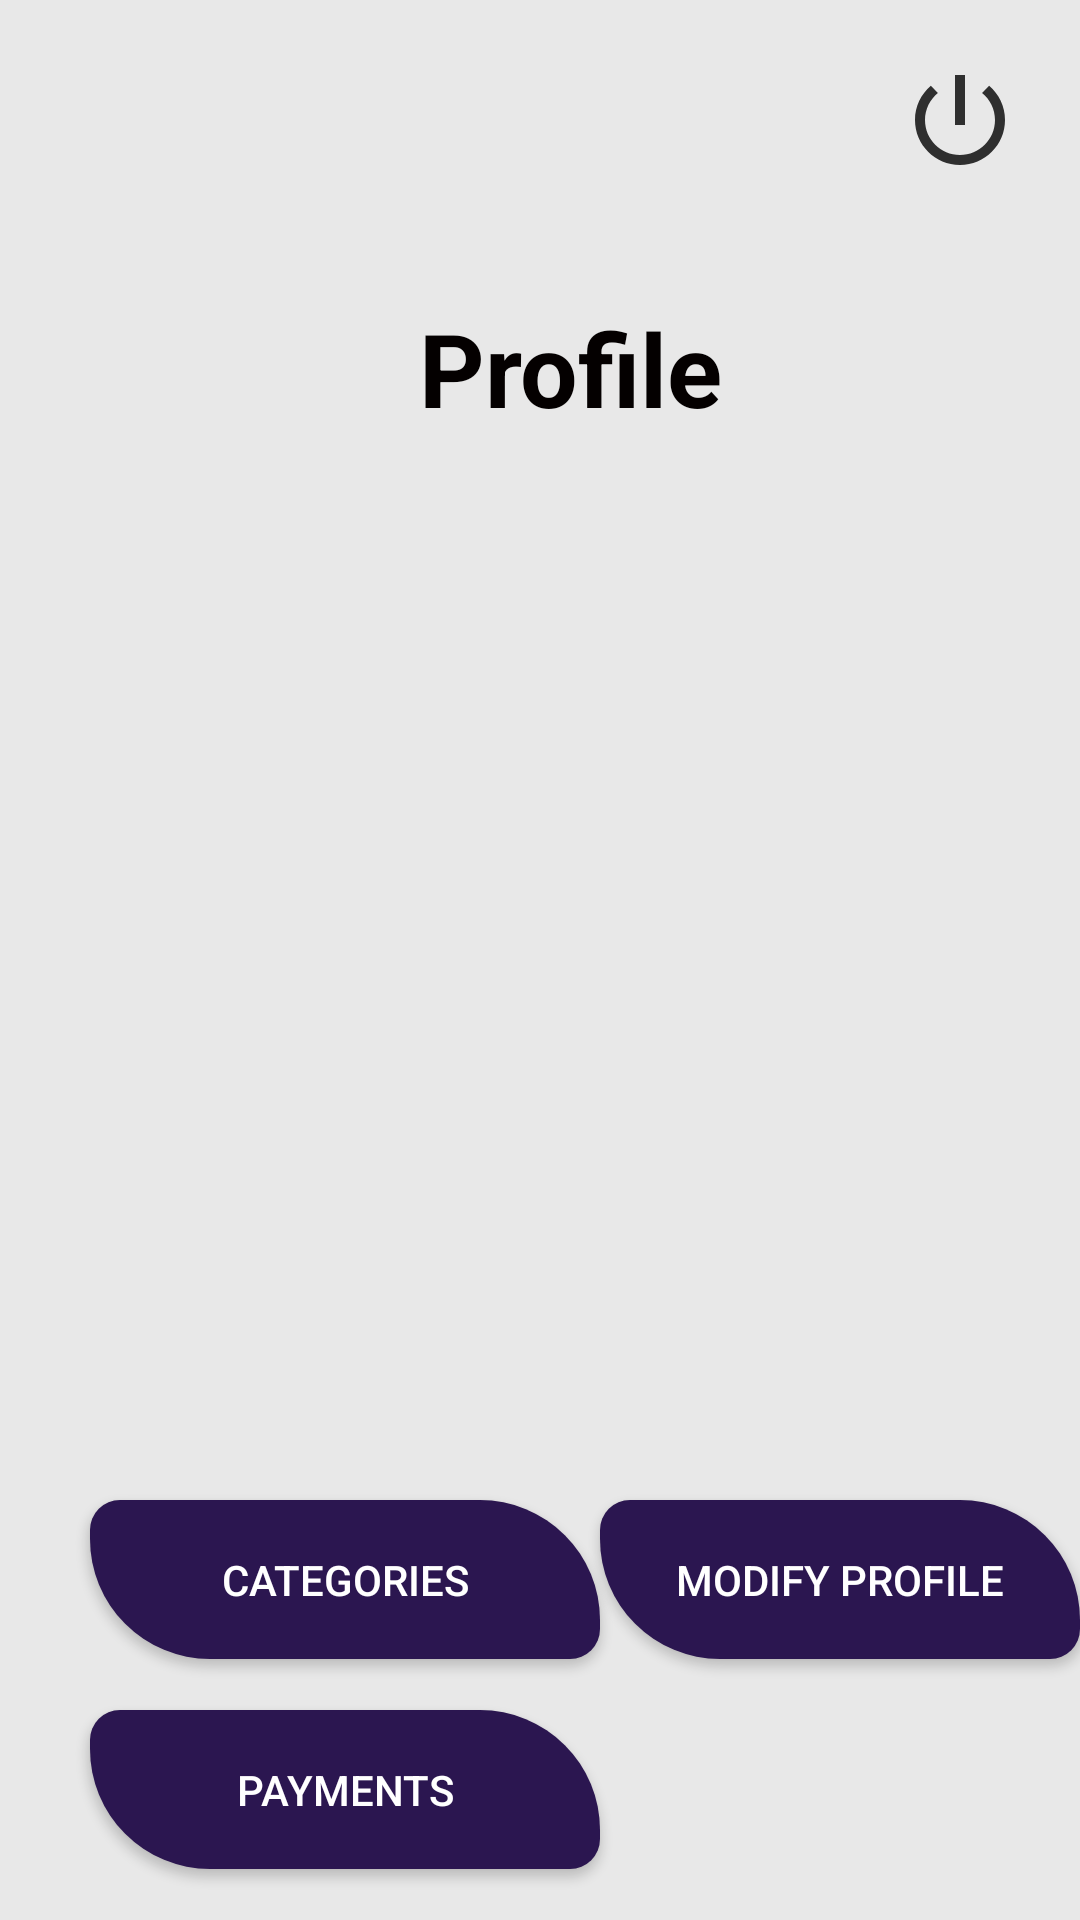

Icons on this 1080 × 1920 Android screen, each with its box as {"left": x1, "top": y1, "right": x2, "bottom": y2}:
power: {"left": 915, "top": 75, "right": 1005, "bottom": 165}
